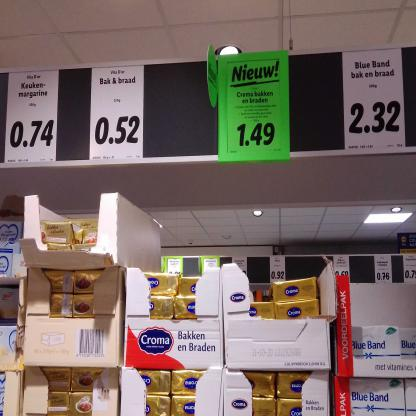prtg: (343, 49, 407, 151), (90, 66, 145, 161), (228, 59, 282, 154), (5, 71, 60, 163)
